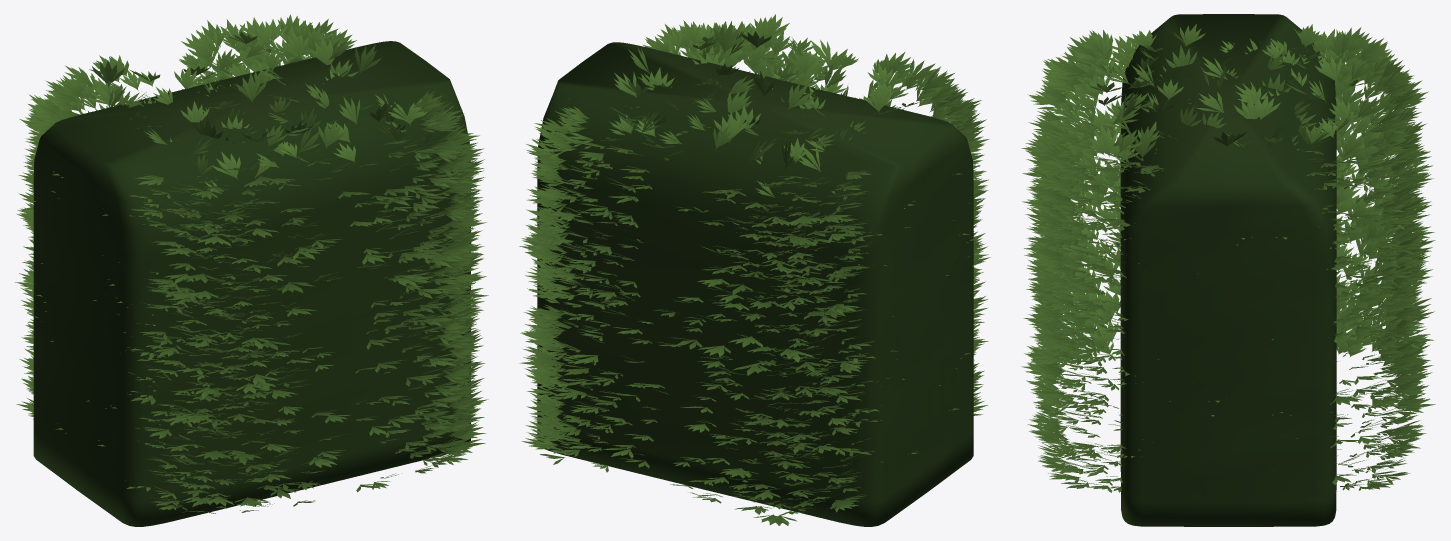
File: thuja_segment.glb
3 renders of one model, left to right at view 1: azimuth 30°, elevation 25°; view 2: azimuth 150°, elevation 25°; view 3: azimuth 270°, elevation 25°, orthographic.
Parts seen in each view (by area): view 1: Thuja_InnerCanopy, Thuja_ScaleSprays; view 2: Thuja_InnerCanopy, Thuja_ScaleSprays; view 3: Thuja_InnerCanopy, Thuja_ScaleSprays.
Part boxes in pixels (box(x1,y1,x2,y2)): Thuja_InnerCanopy: box(33, 41, 470, 526); Thuja_ScaleSprays: box(15, 14, 488, 513); Thuja_InnerCanopy: box(537, 42, 973, 526); Thuja_ScaleSprays: box(519, 14, 990, 525); Thuja_InnerCanopy: box(1120, 14, 1336, 526); Thuja_ScaleSprays: box(1021, 24, 1435, 492).
Size of the model in its own units: 1 by 1 by 1.
